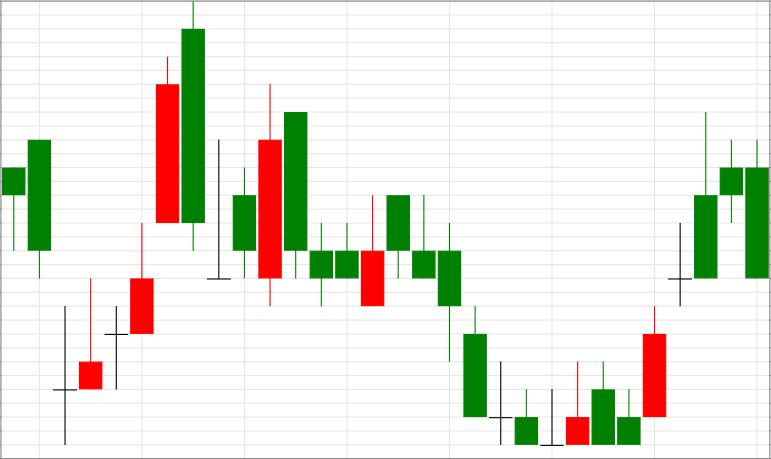bearish_engulfing_fall: (52, 2, 205, 446)
inverse_hammer_rise: (387, 196, 590, 447)
